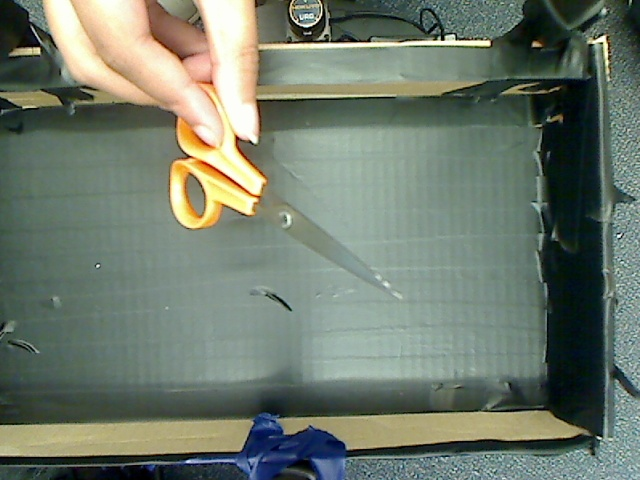scissors: (159, 80, 404, 314)
